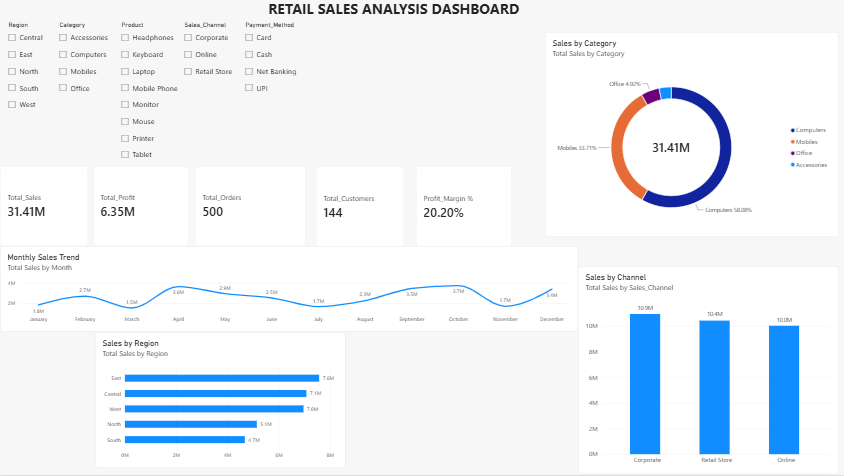

Layout of this report page (visuals, bound fields, positions):
{"tool":"powerbi","page":{"name":"Executive Dashboard","canvas":[1920,1080],"ordinal":0},"visuals":[{"type":"textbox","box":[200,0,1389.7,103.4],"z":1000},{"type":"cardVisual","fields":{"Data":["PowerBI_Retail_Sales_Dataset.Total_Sales"]},"box":[0,380,200,182.5],"z":2000},{"type":"cardVisual","fields":{"Data":["PowerBI_Retail_Sales_Dataset.Total_Profit"]},"box":[211.1,380,217.5,182.5],"z":3000},{"type":"cardVisual","fields":{"Data":["PowerBI_Retail_Sales_Dataset.Total_Orders"]},"box":[442.2,380,252.5,182.5],"z":3001},{"type":"cardVisual","fields":{"Data":["PowerBI_Retail_Sales_Dataset.Total_Customers"]},"box":[717.8,380,200,183],"z":3002},{"type":"cardVisual","fields":{"Data":["PowerBI_Retail_Sales_Dataset.Profit_Margin %"]},"box":[944.4,380,218,183],"z":3003},{"type":"lineChart","title":"Monthly Sales Trend","fields":{"Category":["PowerBI_Retail_Sales_Dataset.Order_Date.Variation.Date Hierarchy.Month"],"Y":["PowerBI_Retail_Sales_Dataset.Total Sales"]},"box":[0,562.2,1314,195.3],"z":3004},{"type":"clusteredBarChart","title":"Sales by Region","fields":{"Category":["PowerBI_Retail_Sales_Dataset.Region"],"Y":["PowerBI_Retail_Sales_Dataset.Total Sales"]},"box":[0,786.7,347.1,280],"z":3005},{"type":"donutChart","title":"Sales by Category","fields":{"Category":["PowerBI_Retail_Sales_Dataset.Category"],"Y":["PowerBI_Retail_Sales_Dataset.Total Sales"]},"box":[411.1,786.7,407.5,280],"z":3006},{"type":"columnChart","title":"Sales by Channel","fields":{"Category":["PowerBI_Retail_Sales_Dataset.Sales_Channel"],"Y":["PowerBI_Retail_Sales_Dataset.Total Sales"]},"box":[895.6,786.7,417.5,280],"z":3007},{"type":"slicer","fields":{"Values":["PowerBI_Retail_Sales_Dataset.Category"]},"box":[126.7,51.1,240.8,183.3],"z":3008},{"type":"slicer","fields":{"Values":["PowerBI_Retail_Sales_Dataset.Product"]},"box":[268.9,51.1,233.3,328.9],"z":3009},{"type":"slicer","fields":{"Values":["PowerBI_Retail_Sales_Dataset.Sales_Channel"]},"box":[411.1,51.1,158,132],"z":3010},{"type":"slicer","fields":{"Values":["PowerBI_Retail_Sales_Dataset.Payment_Method"]},"box":[551.1,51.1,408,198],"z":3011},{"type":"slicer","fields":{"Values":["PowerBI_Retail_Sales_Dataset.Region"]},"box":[11.1,51.1,200,228.8],"z":3012}]}

Visuals, with their boxes in screenshot pixels (x1, y1, x2, y2), scaled from the page's 1920x1080 canvas onto the 844x476 screenshot:
textbox: left=88, top=0, right=699, bottom=46
cardVisual - PowerBI_Retail_Sales_Dataset.Total_Sales: left=0, top=167, right=88, bottom=248
cardVisual - PowerBI_Retail_Sales_Dataset.Total_Profit: left=93, top=167, right=188, bottom=248
cardVisual - PowerBI_Retail_Sales_Dataset.Total_Orders: left=194, top=167, right=305, bottom=248
cardVisual - PowerBI_Retail_Sales_Dataset.Total_Customers: left=316, top=167, right=403, bottom=248
cardVisual - PowerBI_Retail_Sales_Dataset.Profit_Margin %: left=415, top=167, right=511, bottom=248
"Monthly Sales Trend" lineChart: left=0, top=248, right=578, bottom=334
"Sales by Region" clusteredBarChart: left=0, top=347, right=153, bottom=470
"Sales by Category" donutChart: left=181, top=347, right=360, bottom=470
"Sales by Channel" columnChart: left=394, top=347, right=577, bottom=470
slicer - PowerBI_Retail_Sales_Dataset.Category: left=56, top=23, right=162, bottom=103
slicer - PowerBI_Retail_Sales_Dataset.Product: left=118, top=23, right=221, bottom=167
slicer - PowerBI_Retail_Sales_Dataset.Sales_Channel: left=181, top=23, right=250, bottom=81
slicer - PowerBI_Retail_Sales_Dataset.Payment_Method: left=242, top=23, right=422, bottom=110
slicer - PowerBI_Retail_Sales_Dataset.Region: left=5, top=23, right=93, bottom=123
